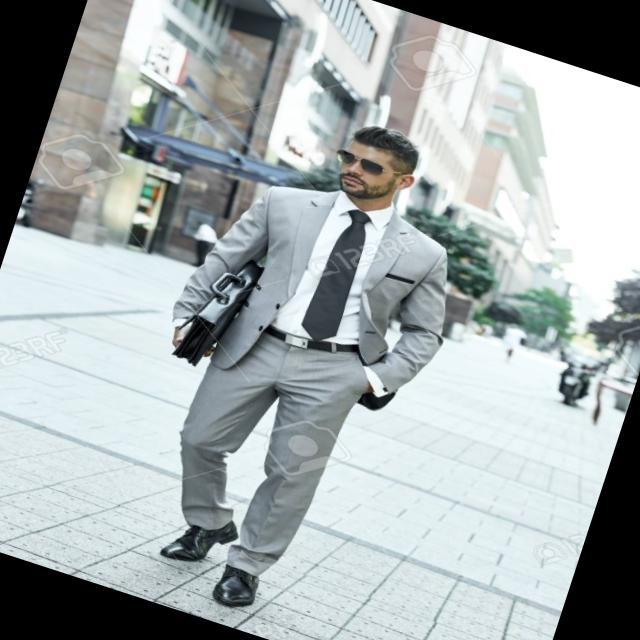Person: (93, 84, 498, 640)
